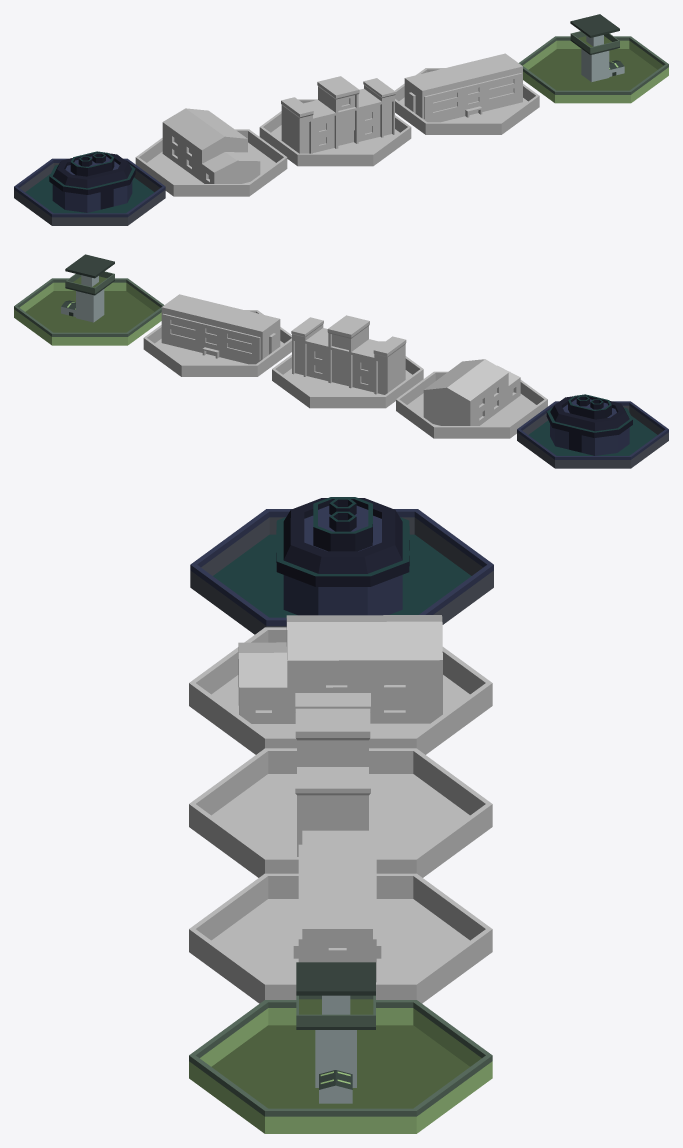
The model's file is LowPolyBuildings 1.fbx.
The picture shows the model from 3 angles, top to bottom: view 1: azimuth 30°, elevation 25°; view 2: azimuth 150°, elevation 25°; view 3: azimuth 270°, elevation 25°; orthographic projection. The views are drawn at different scales.
Visible parts, largest first — view 1: Ground.001, BaseGround, BaseGround.003, BaseGround.001, BaseGround.002; view 2: Ground.001, BaseGround.003, BaseGround.001, BaseGround, BaseGround.002; view 3: BaseGround.003, Ground.001, BaseGround.001, BaseGround.002, BaseGround.
Boxes of the visible parts, x1,y1,x2,y2 form: Ground.001: (259,76,411,166); BaseGround: (135,108,287,196); BaseGround.003: (519,14,668,103); BaseGround.001: (394,53,539,134); BaseGround.002: (14,151,165,225); Ground.001: (272,315,423,408); BaseGround.003: (14,254,163,345); BaseGround.001: (143,294,291,376); BaseGround: (396,359,547,438); BaseGround.002: (517,394,668,468); BaseGround.003: (189,962,492,1133); Ground.001: (189,693,492,877); BaseGround.001: (189,830,492,1003); BaseGround.002: (190,497,493,634); BaseGround: (189,615,492,754).
Bounding box in the file's own units: 1023 × 87.06 × 219.
